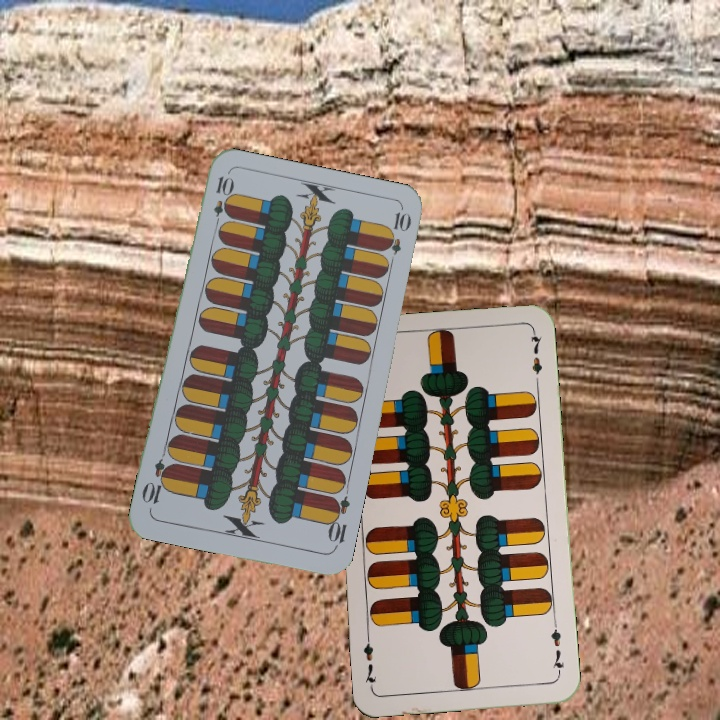E10: (323, 493, 352, 552), (209, 172, 233, 231)
E7: (547, 618, 567, 677)
